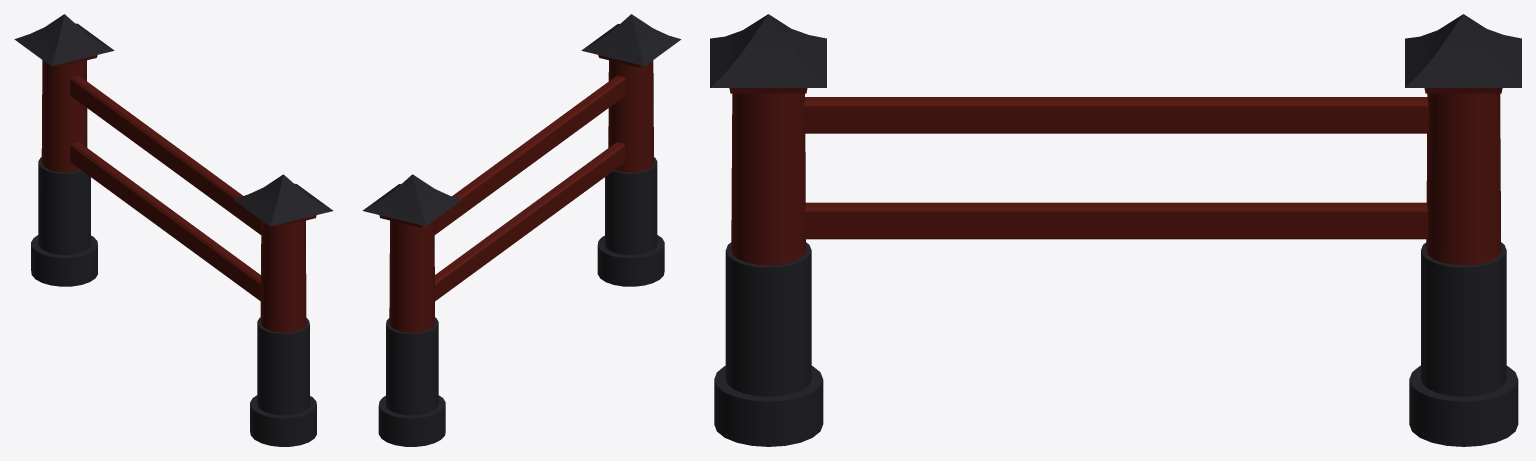
Rendered from side_column.fbx.
The picture shows the model from 3 angles, left to right: view 1: azimuth 30°, elevation 25°; view 2: azimuth 150°, elevation 25°; view 3: azimuth 270°, elevation 25°; orthographic projection. The views are drawn at different scales.
Parts seen in each view (by area): view 1: side_column; view 2: side_column; view 3: side_column.
Part boxes in pixels (x1=…): side_column: x1=14, y1=14, x2=333, y2=446; side_column: x1=362, y1=14, x2=680, y2=446; side_column: x1=710, y1=14, x2=1521, y2=446.
Size of the model in its own units: 130 by 502 by 901.
